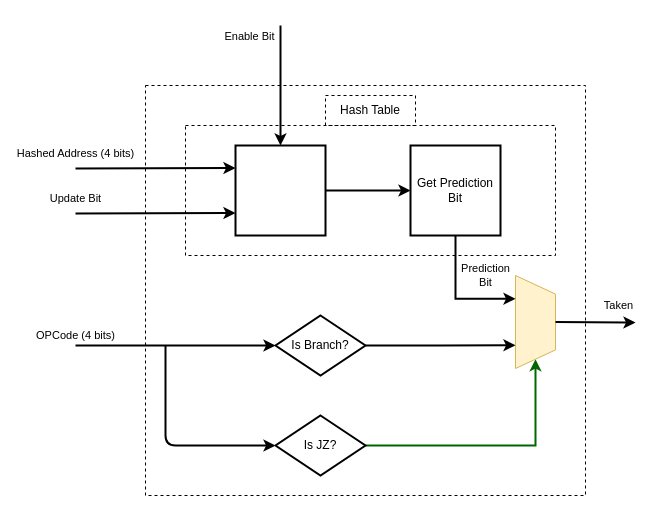
Image size: 662x513. Some labels were removed from this diagram. Each missing label, with the box of its shape:
MUX: (514, 274, 556, 368)
Update FSM: (234, 144, 326, 236)
